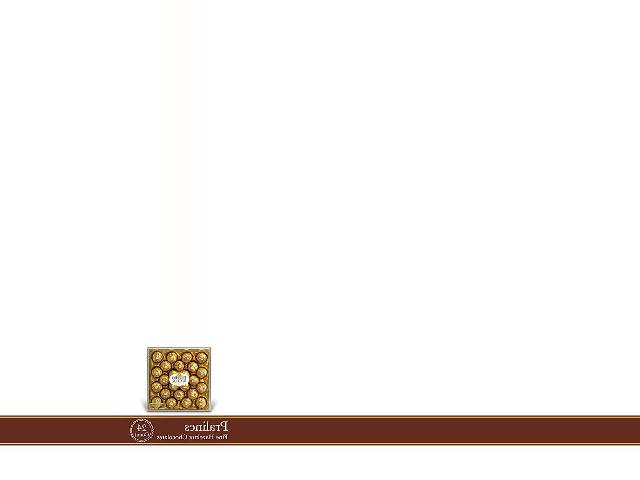chocolate: (142, 342, 213, 415)
